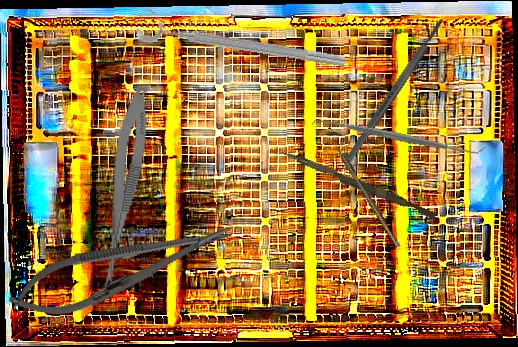Fixation Ring: (135, 5, 349, 74)
Hook Surgical: (331, 138, 401, 249)
Micro Scissor: (96, 85, 154, 298)
Needle Holder: (1, 205, 241, 332)
Pusher: (278, 149, 438, 220)
Scalpel Handle: (341, 16, 447, 167)
Spatula Surgical: (310, 109, 487, 164)
